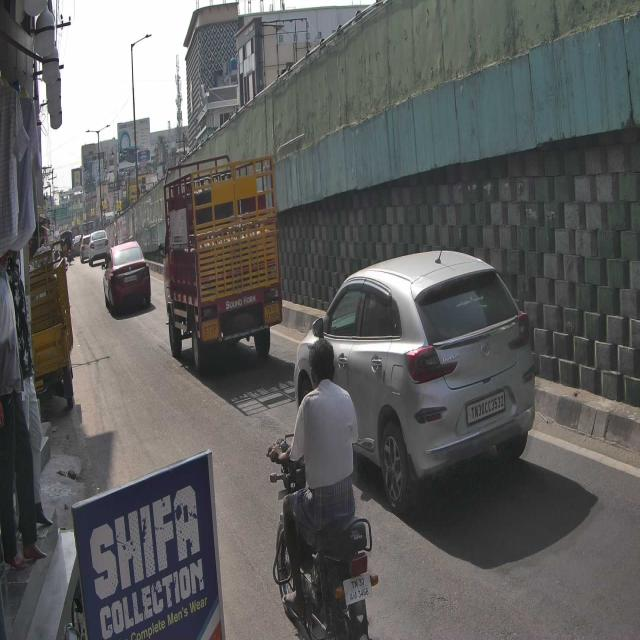single_rider: (264, 334, 381, 640)
